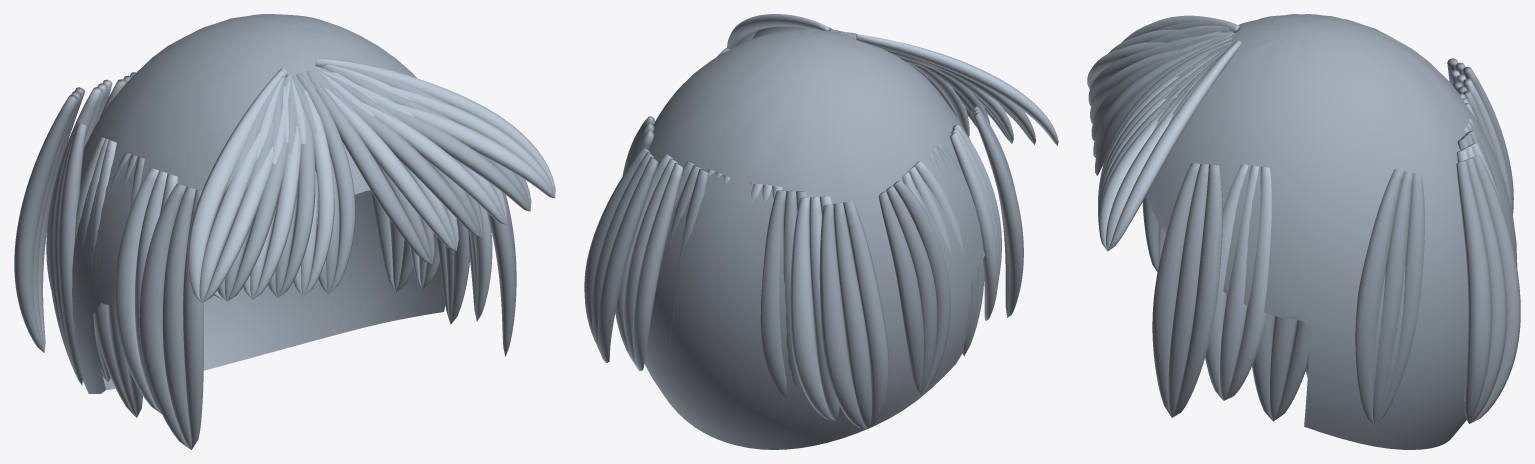
3 views of the same model, side by side, from view 1: azimuth 30°, elevation 25°; view 2: azimuth 150°, elevation 25°; view 3: azimuth 270°, elevation 25° (orthographic). The views are drawn at different scales.
Parts seen in each view (by area): view 1: CrownHair_male_ref06, SideHair_-1_0_Strand2, SideHair_-1_0_Strand1, BackHair_00_Strand0, SideHair_-1_1_Strand2, FrontHair_CenterPart_-1_5_Strand2, SideHair_-1_4_Strand0, FrontHair_CenterPart_1_0_Strand2, FrontHair_CenterPart_-1_0_Strand0, SideHair_-1_0_Strand0, FrontHair_CenterPart_1_1_Strand2, FrontHair_CenterPart_1_2_Strand2 (+44 smaller); view 2: CrownHair_male_ref06, BackHair_00_Strand2, BackHair_01_Strand2, BackHair_00_Strand1, BackHair_00_Strand0, BackHair_07_Strand0, BackHair_02_Strand2, SideHair_-1_4_Strand2, BackHair_08_Strand0, SideHair_-1_0_Strand2, SideHair_-1_4_Strand0, SideHair_-1_4_Strand1 (+21 smaller); view 3: CrownHair_male_ref06, BackHair_08_Strand2, SideHair_1_4_Strand2, SideHair_1_0_Strand0, SideHair_1_0_Strand2, SideHair_1_0_Strand1, SideHair_1_4_Strand1, SideHair_1_1_Strand0, SideHair_1_4_Strand0, BackHair_08_Strand0, BackHair_08_Strand1, FrontHair_CenterPart_1_5_Strand0 (+23 smaller).
Boxes of the visible parts, bbox=[...] form: CrownHair_male_ref06: bbox=[72, 14, 445, 393]; SideHair_-1_0_Strand2: bbox=[139, 183, 190, 449]; SideHair_-1_0_Strand1: bbox=[162, 186, 195, 449]; BackHair_00_Strand0: bbox=[14, 95, 77, 352]; SideHair_-1_1_Strand2: bbox=[114, 168, 161, 413]; FrontHair_CenterPart_-1_5_Strand2: bbox=[187, 68, 287, 302]; SideHair_-1_4_Strand0: bbox=[58, 123, 86, 385]; FrontHair_CenterPart_1_0_Strand2: bbox=[306, 70, 431, 263]; FrontHair_CenterPart_-1_0_Strand0: bbox=[296, 73, 355, 294]; SideHair_-1_0_Strand0: bbox=[183, 189, 203, 449]; FrontHair_CenterPart_1_1_Strand2: bbox=[324, 87, 456, 250]; FrontHair_CenterPart_1_2_Strand2: bbox=[344, 97, 480, 237]; CrownHair_male_ref06: bbox=[644, 28, 984, 449]; BackHair_00_Strand2: bbox=[819, 204, 867, 428]; BackHair_01_Strand2: bbox=[790, 197, 834, 420]; BackHair_00_Strand1: bbox=[833, 202, 871, 428]; BackHair_00_Strand0: bbox=[843, 201, 888, 428]; BackHair_07_Strand0: bbox=[632, 163, 683, 370]; BackHair_02_Strand2: bbox=[760, 190, 787, 398]; SideHair_-1_4_Strand2: bbox=[878, 191, 924, 394]; BackHair_08_Strand0: bbox=[597, 157, 658, 362]; SideHair_-1_0_Strand2: bbox=[973, 112, 1023, 317]; SideHair_-1_4_Strand0: bbox=[892, 180, 950, 393]; SideHair_-1_4_Strand1: bbox=[885, 186, 937, 393]; CrownHair_male_ref06: bbox=[1146, 14, 1517, 449]; BackHair_08_Strand2: bbox=[1456, 160, 1492, 423]; SideHair_1_4_Strand2: bbox=[1355, 169, 1404, 424]; SideHair_1_0_Strand0: bbox=[1172, 164, 1222, 417]; SideHair_1_0_Strand2: bbox=[1152, 163, 1200, 416]; SideHair_1_0_Strand1: bbox=[1168, 164, 1208, 417]; SideHair_1_4_Strand1: bbox=[1373, 171, 1412, 424]; SideHair_1_1_Strand0: bbox=[1224, 166, 1271, 400]; SideHair_1_4_Strand0: bbox=[1375, 173, 1424, 424]; BackHair_08_Strand0: bbox=[1470, 155, 1520, 423]; BackHair_08_Strand1: bbox=[1464, 158, 1507, 423]; FrontHair_CenterPart_1_5_Strand0: bbox=[1108, 40, 1241, 250].
Size of the model in its own units: 0.725 by 0.7341 by 0.7388.
